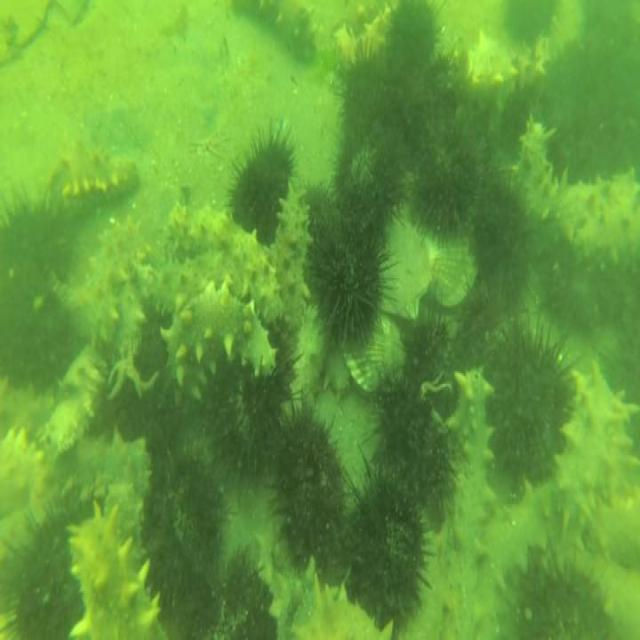echinus: (336, 457, 429, 632), (143, 438, 228, 616), (484, 322, 574, 482), (271, 406, 346, 577), (208, 348, 299, 482), (5, 499, 91, 640), (371, 373, 457, 512), (0, 265, 74, 389), (184, 547, 280, 640), (314, 231, 386, 349), (510, 558, 610, 640), (535, 251, 628, 338), (3, 187, 77, 296), (332, 123, 399, 240), (228, 123, 294, 237), (410, 142, 474, 244), (339, 48, 402, 146), (468, 169, 524, 277), (382, 0, 438, 84), (504, 0, 560, 46)
holothurian: (512, 114, 640, 270), (428, 364, 498, 638), (550, 359, 640, 548), (162, 200, 288, 328), (470, 469, 558, 640), (161, 276, 277, 404), (66, 502, 170, 640), (132, 246, 268, 324), (78, 210, 148, 349), (66, 428, 154, 523), (463, 22, 553, 108), (272, 175, 315, 335), (45, 142, 143, 212), (230, 0, 320, 71), (1, 424, 50, 512)
scallop: (380, 207, 431, 324), (342, 321, 407, 396), (428, 237, 476, 310)
